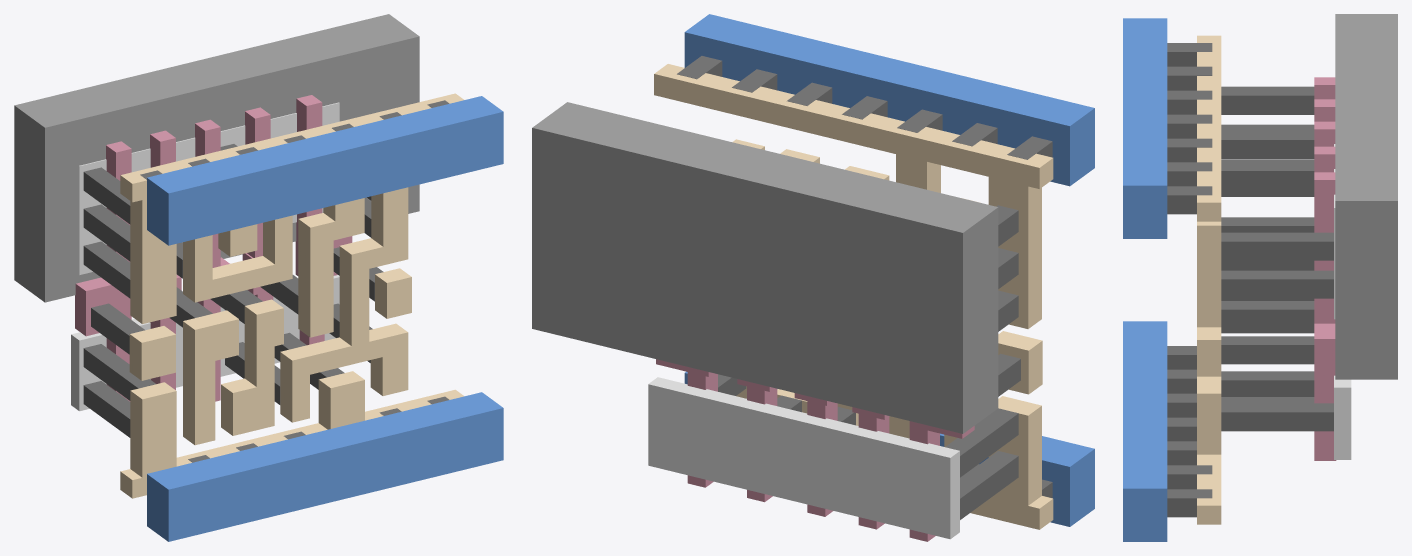
The model's file is sky130_fd_sc_hd__a311oi_1.gds.gltf.
The picture shows the model from 3 angles, left to right: view 1: azimuth 30°, elevation 25°; view 2: azimuth 150°, elevation 25°; view 3: azimuth 270°, elevation 25°; orthographic projection. The views are drawn at different scales.
Visible parts, largest first — view 1: sky130_fd_sc_hd__a311oi_1_li1, sky130_fd_sc_hd__a311oi_1_met1, sky130_fd_sc_hd__a311oi_1_nwell, sky130_fd_sc_hd__a311oi_1_licon, sky130_fd_sc_hd__a311oi_1_poly, sky130_fd_sc_hd__a311oi_1_diff, sky130_fd_sc_hd__a311oi_1_mcon; view 2: sky130_fd_sc_hd__a311oi_1_nwell, sky130_fd_sc_hd__a311oi_1_diff, sky130_fd_sc_hd__a311oi_1_li1, sky130_fd_sc_hd__a311oi_1_met1, sky130_fd_sc_hd__a311oi_1_licon, sky130_fd_sc_hd__a311oi_1_mcon, sky130_fd_sc_hd__a311oi_1_poly; view 3: sky130_fd_sc_hd__a311oi_1_licon, sky130_fd_sc_hd__a311oi_1_nwell, sky130_fd_sc_hd__a311oi_1_met1, sky130_fd_sc_hd__a311oi_1_mcon, sky130_fd_sc_hd__a311oi_1_li1, sky130_fd_sc_hd__a311oi_1_poly, sky130_fd_sc_hd__a311oi_1_diff.
Boxes of the visible parts, bbox=[...] form: sky130_fd_sc_hd__a311oi_1_li1: bbox=[120, 93, 463, 498]; sky130_fd_sc_hd__a311oi_1_met1: bbox=[147, 96, 503, 541]; sky130_fd_sc_hd__a311oi_1_nwell: bbox=[14, 14, 419, 302]; sky130_fd_sc_hd__a311oi_1_licon: bbox=[83, 144, 383, 437]; sky130_fd_sc_hd__a311oi_1_poly: bbox=[75, 95, 352, 401]; sky130_fd_sc_hd__a311oi_1_diff: bbox=[71, 102, 339, 411]; sky130_fd_sc_hd__a311oi_1_mcon: bbox=[140, 100, 449, 462]; sky130_fd_sc_hd__a311oi_1_nwell: bbox=[532, 102, 998, 433]; sky130_fd_sc_hd__a311oi_1_diff: bbox=[648, 377, 959, 539]; sky130_fd_sc_hd__a311oi_1_li1: bbox=[654, 64, 1053, 529]; sky130_fd_sc_hd__a311oi_1_met1: bbox=[684, 14, 1094, 526]; sky130_fd_sc_hd__a311oi_1_licon: bbox=[718, 205, 1020, 519]; sky130_fd_sc_hd__a311oi_1_mcon: bbox=[677, 56, 1052, 498]; sky130_fd_sc_hd__a311oi_1_poly: bbox=[656, 359, 974, 541]; sky130_fd_sc_hd__a311oi_1_licon: bbox=[1221, 86, 1333, 431]; sky130_fd_sc_hd__a311oi_1_nwell: bbox=[1335, 14, 1397, 379]; sky130_fd_sc_hd__a311oi_1_met1: bbox=[1123, 18, 1167, 541]; sky130_fd_sc_hd__a311oi_1_mcon: bbox=[1167, 43, 1212, 517]; sky130_fd_sc_hd__a311oi_1_li1: bbox=[1197, 35, 1221, 524]; sky130_fd_sc_hd__a311oi_1_poly: bbox=[1314, 77, 1336, 460]; sky130_fd_sc_hd__a311oi_1_diff: bbox=[1334, 144, 1351, 459].
Size of the model in its own units: 3.6 by 3.2 by 2.24.
